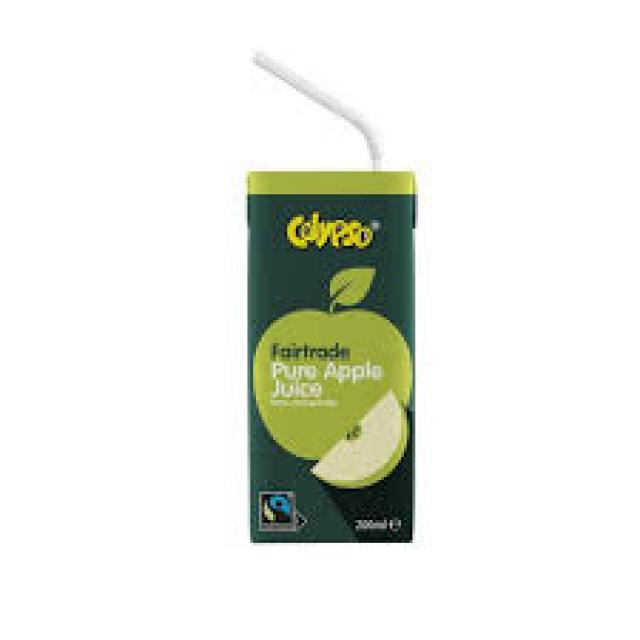non_white_jug: (236, 160, 421, 554)
